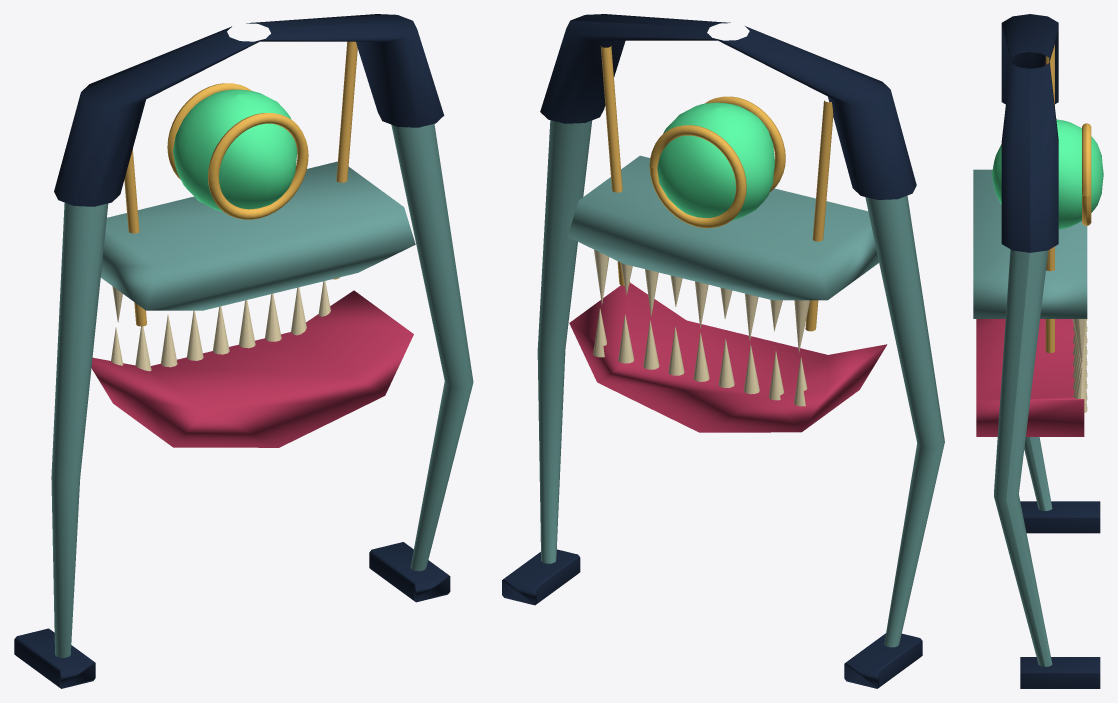
Rendered from boss_6.glb.
The picture shows the model from 3 angles, left to right: view 1: azimuth 30°, elevation 25°; view 2: azimuth 150°, elevation 25°; view 3: azimuth 270°, elevation 25°; orthographic projection. The views are drawn at different scales.
Parts seen in each view (by area): view 1: UpperMaw, LongShin (×2), LowerMaw, Gallows (×2), GlassCore, Hoof (×2), GiltOrbRim (×2), JawChain (×2); view 2: LongShin (×2), UpperMaw, LowerMaw, Gallows (×2), GlassCore, Hoof (×2), GiltOrbRim (×2), JawChain (×2); view 3: Gallows (×2), LongShin (×2), UpperMaw, LowerMaw, Hoof (×2), GlassCore, GiltOrbRim, JawChain (×2), UpperTooth, LowerTooth.
Part boxes in pixels (<box>): UpperMaw: <box>100,161,415,310</box>; LongShin (×2): <box>51,124,473,657</box>; LowerMaw: <box>91,290,413,447</box>; Gallows (×2): <box>54,14,444,206</box>; GlassCore: <box>173,89,297,211</box>; Hoof (×2): <box>14,542,450,688</box>; GiltOrbRim (×2): <box>167,83,308,219</box>; JawChain (×2): <box>124,41,357,326</box>; LongShin (×2): <box>537,120,944,647</box>; UpperMaw: <box>567,155,878,300</box>; LowerMaw: <box>569,282,887,432</box>; Gallows (×2): <box>540,14,916,199</box>; GlassCore: <box>657,102,774,220</box>; Hoof (×2): <box>502,549,922,688</box>; GiltOrbRim (×2): <box>649,96,785,228</box>; JawChain (×2): <box>600,46,833,331</box>; Gallows (×2): <box>1001,14,1058,252</box>; LongShin (×2): <box>994,249,1052,666</box>; UpperMaw: <box>973,169,1087,318</box>; LowerMaw: <box>976,319,1084,436</box>; Hoof (×2): <box>1020,501,1100,688</box>; GlassCore: <box>991,119,1103,229</box>; GiltOrbRim: <box>1082,123,1091,225</box>; JawChain (×2): <box>1045,44,1054,352</box>; UpperTooth: <box>1072,319,1085,362</box>; LowerTooth: <box>1075,367,1087,412</box>.
Bounding box in the file's own units: 2.17 × 3 × 0.6524.
